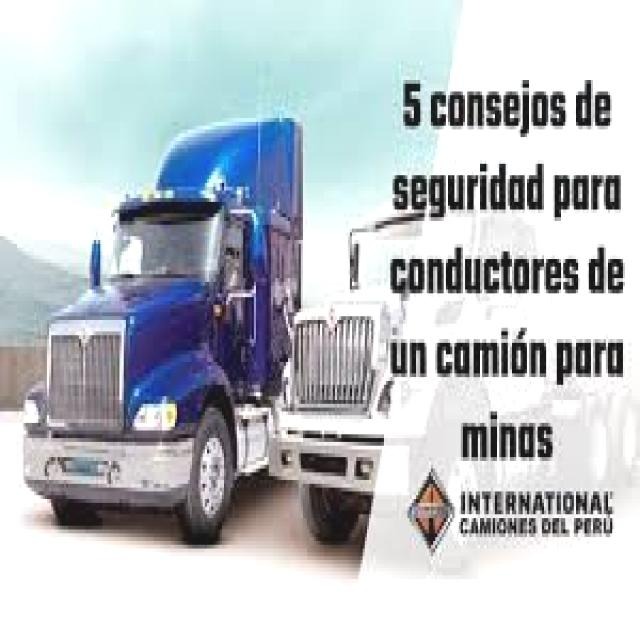TRUCK: (32, 116, 358, 538)
